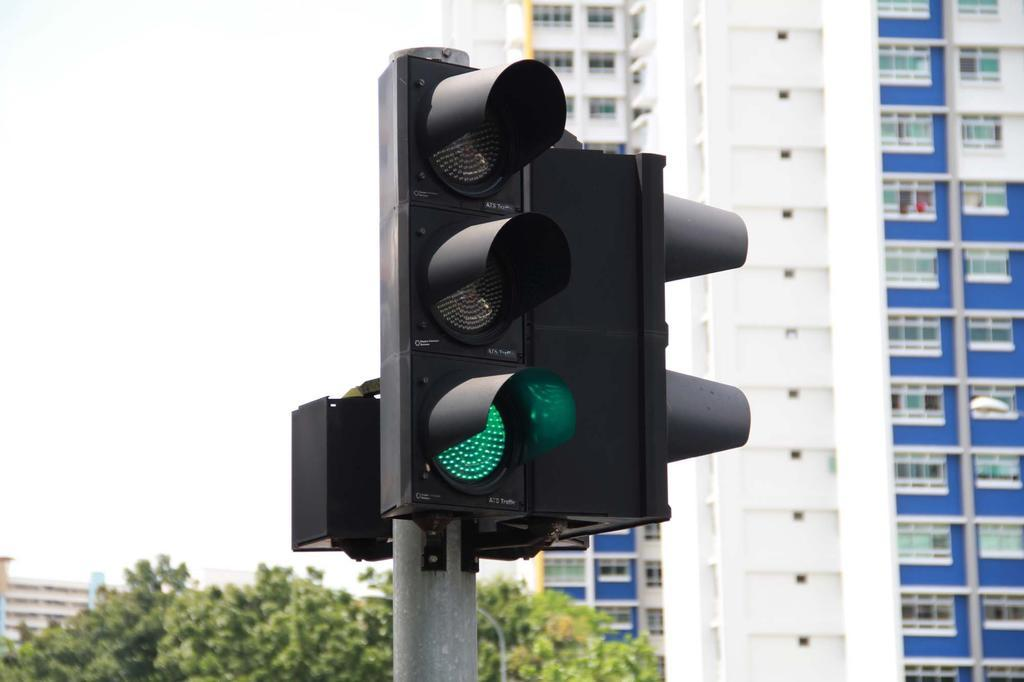Traffic light green: (380, 53, 582, 515)
